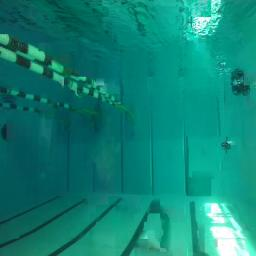Full: (221, 140, 232, 150)
front: (230, 76, 250, 94)
